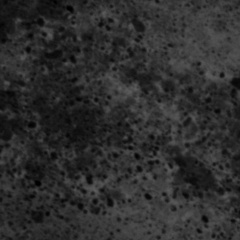Vegetation: (2, 163, 238, 240), (76, 1, 240, 78), (98, 71, 185, 159), (2, 39, 42, 94), (9, 134, 71, 168)
